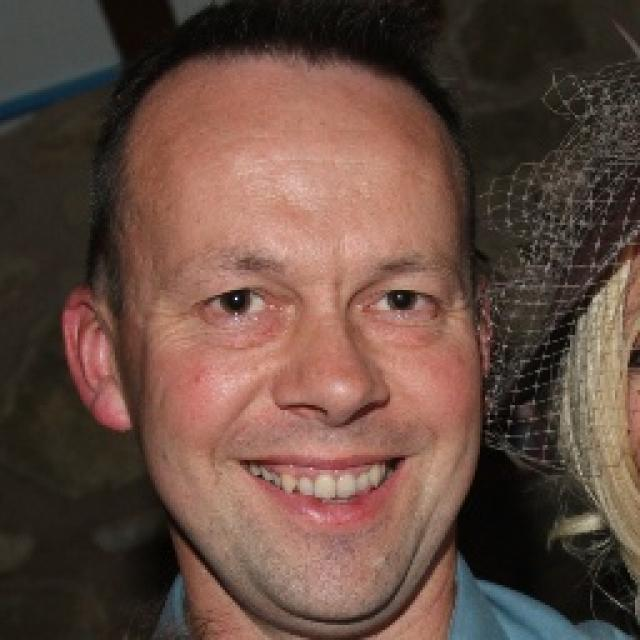earlobe: (94, 378, 136, 433)
eye: (201, 288, 277, 322), (367, 289, 438, 318)
nose: (272, 398, 404, 465)
wholeear: (61, 284, 136, 433)
